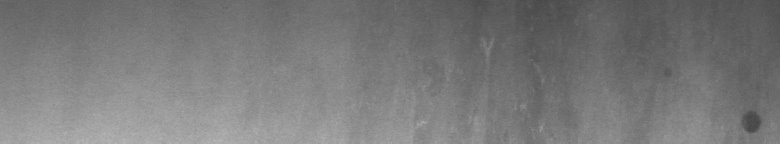fi: (736, 104, 764, 136)
